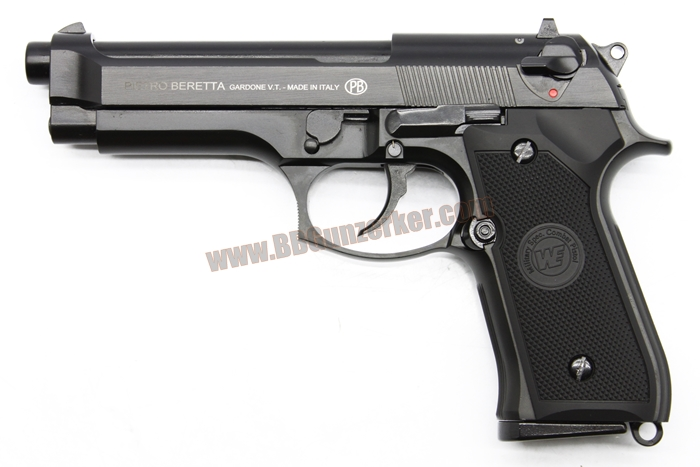gun: (15, 17, 687, 452)
